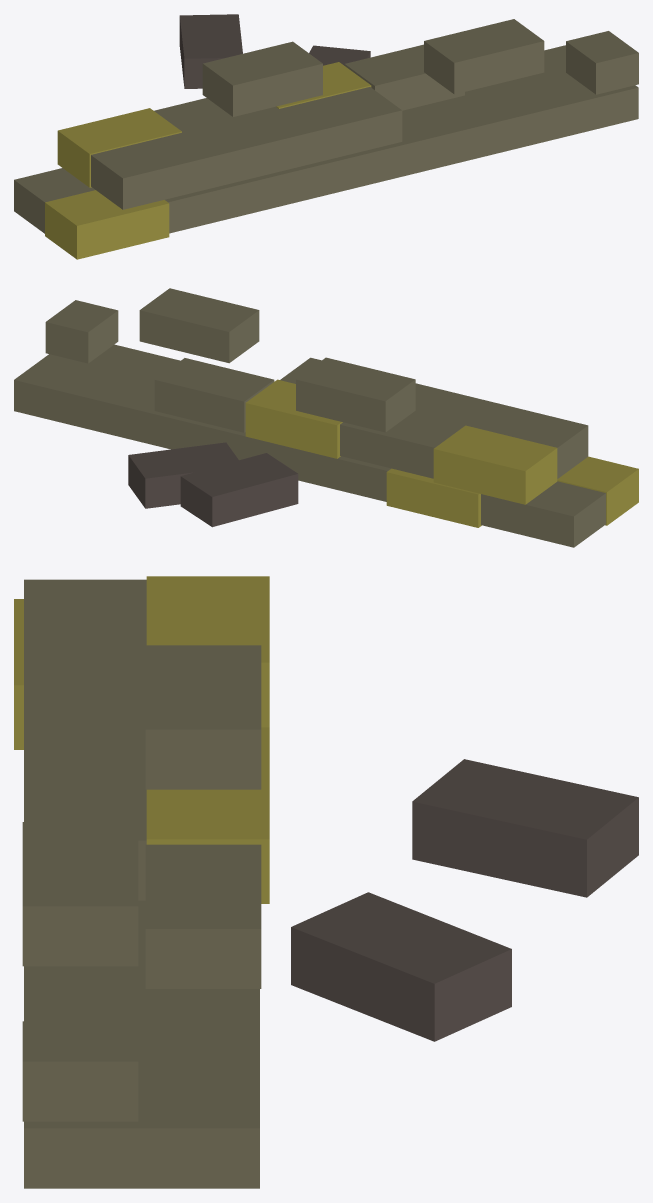
Rendered from SM_PretilTramo_v2_Irregular_e2_MuyDanado_LOD1.fbx.
3 renders of one model, top to bottom at view 1: azimuth 30°, elevation 25°; view 2: azimuth 150°, elevation 25°; view 3: azimuth 270°, elevation 25°, orthographic. The views are drawn at different scales.
Parts seen in each view (by area): view 1: SM_pretil_azotea_v10_LOD1; view 2: SM_pretil_azotea_v10_LOD1; view 3: SM_pretil_azotea_v10_LOD1.
Boxes of the visible parts, left/top/right/bottom form: SM_pretil_azotea_v10_LOD1: left=14, top=14, right=638, bottom=259; SM_pretil_azotea_v10_LOD1: left=14, top=288, right=638, bottom=547; SM_pretil_azotea_v10_LOD1: left=14, top=576, right=638, bottom=1188.
Size of the model in its own units: 5.07 by 0.885 by 2.54.
